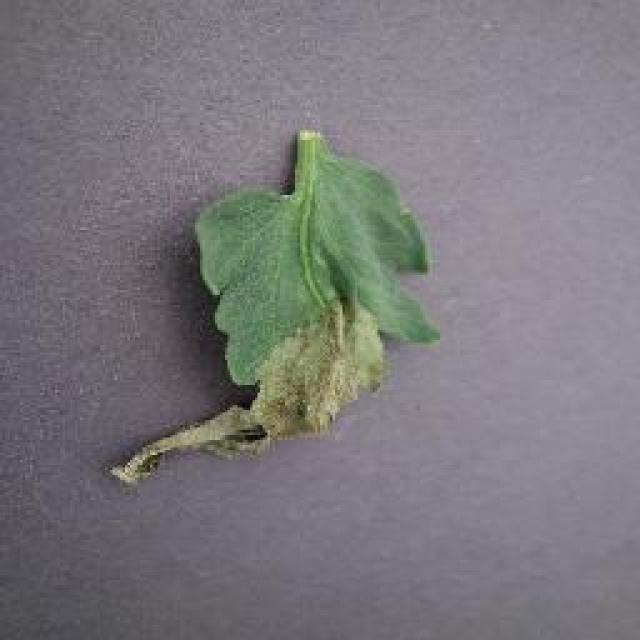Tomato late blight leaf: (109, 160, 438, 493)
